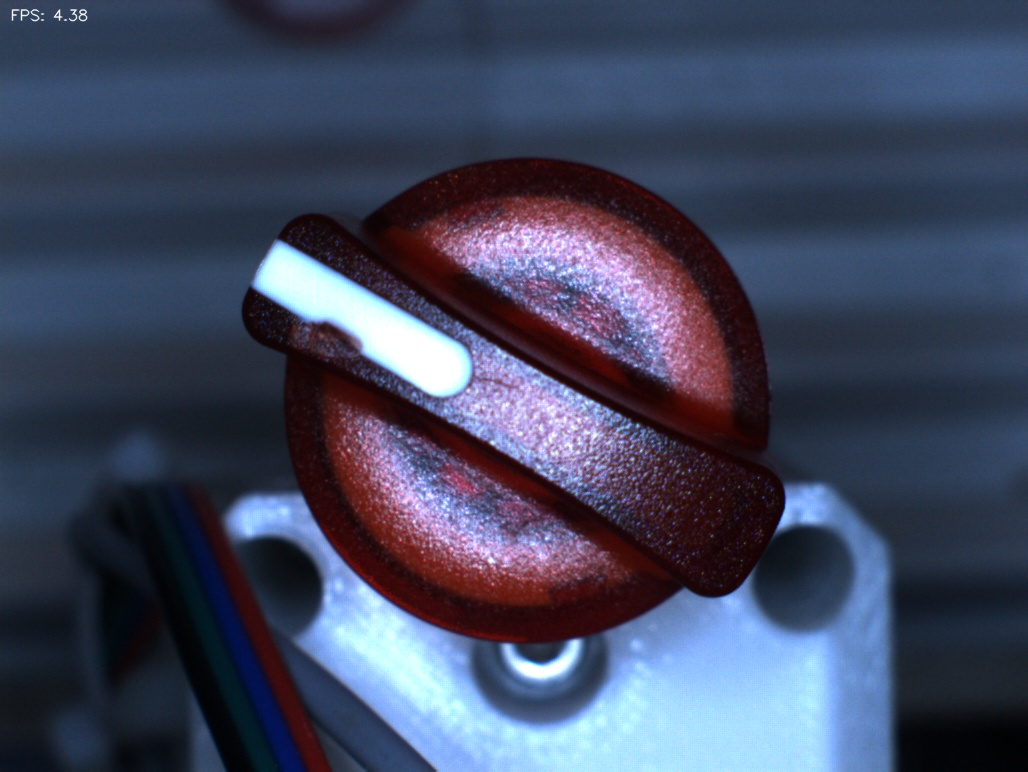Choc: (281, 290, 370, 379)
